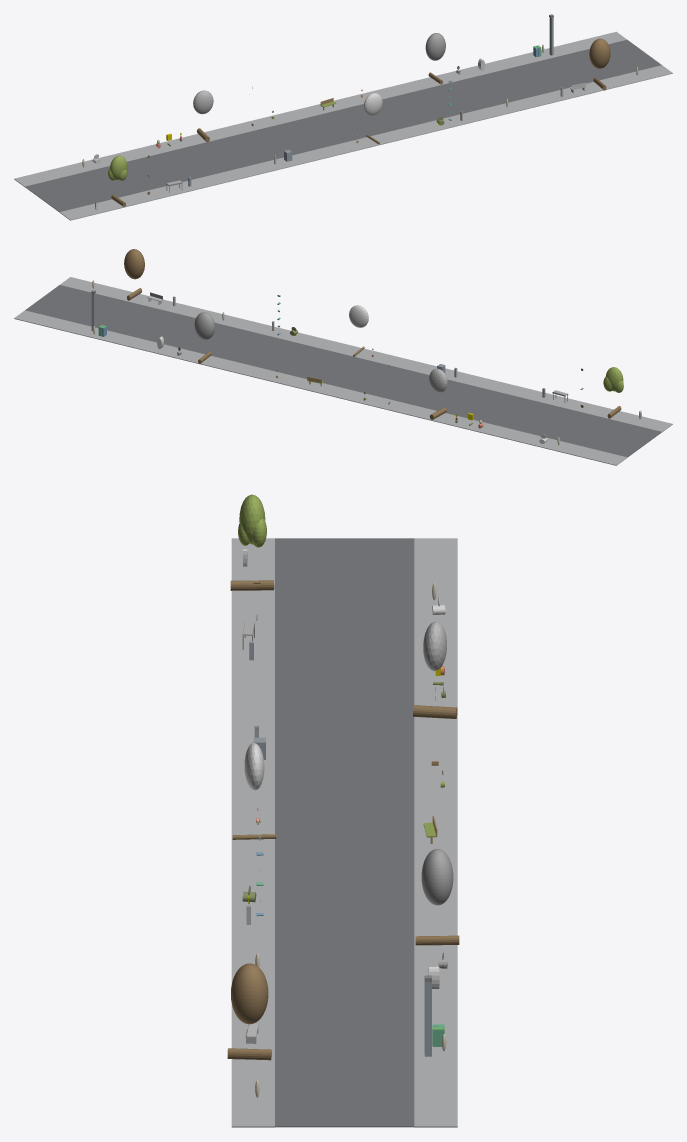
3 views of the same model, one above another, from view 1: azimuth 30°, elevation 25°; view 2: azimuth 150°, elevation 25°; view 3: azimuth 270°, elevation 25° (orthographic). The views are drawn at different scales.
Visible parts, largest first — view 1: road_slab, sidewalk_left, sidewalk_right, inst_0016, inst_0015, inst_0013, inst_0012, inst_0014; view 2: road_slab, sidewalk_right, sidewalk_left, inst_0016, inst_0015, inst_0012, inst_0013, inst_0014; view 3: road_slab, sidewalk_left, sidewalk_right, inst_0016, inst_0015, inst_0012, inst_0013, inst_0014.
Part boxes in pixels (x1,y1,x2,y2): road_slab: (25, 39, 661, 212); sidewalk_left: (59, 65, 672, 220); sidewalk_right: (14, 31, 626, 186); inst_0016: (589, 38, 610, 90); inst_0015: (425, 33, 445, 84); inst_0013: (193, 90, 213, 142); inst_0012: (108, 155, 127, 206); inst_0014: (363, 93, 382, 144); road_slab: (25, 285, 661, 457); sidewalk_right: (14, 310, 627, 465); sidewalk_left: (60, 277, 672, 432); inst_0016: (124, 249, 144, 300); inst_0015: (194, 312, 214, 363); inst_0012: (603, 367, 623, 418); inst_0013: (429, 368, 447, 419); inst_0014: (349, 305, 368, 356); road_slab: (275, 538, 414, 1127); sidewalk_left: (231, 538, 274, 1127); sidewalk_right: (414, 538, 457, 1127); inst_0016: (227, 963, 271, 1060); inst_0015: (415, 849, 459, 945); inst_0012: (230, 494, 274, 590); inst_0013: (413, 621, 457, 718); inst_0014: (232, 743, 276, 839).
Bounding box in the file's own units: 80 × 6.08 × 13.32.
